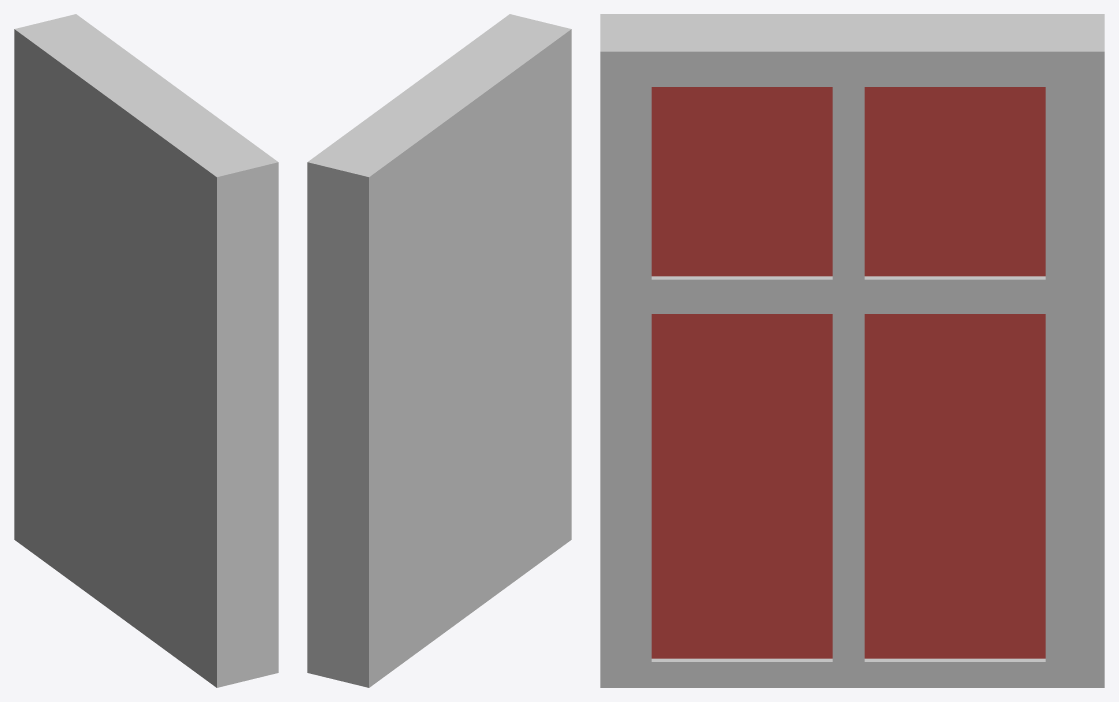
File: Barn_Door_2.glb
3 views of the same model, side by side, from view 1: azimuth 30°, elevation 25°; view 2: azimuth 150°, elevation 25°; view 3: azimuth 270°, elevation 25° (orthographic). The views are drawn at different scales.
Parts seen in each view (by area): view 1: Cube.026; view 2: Cube.026; view 3: Cube.026.
Boxes of the visible parts, x1,y1,x2,y2 form: Cube.026: (14,14,278,687); Cube.026: (307,14,571,687); Cube.026: (600,14,1104,687).
Size of the model in its own units: 0.8354 by 6.6 by 4.74.
